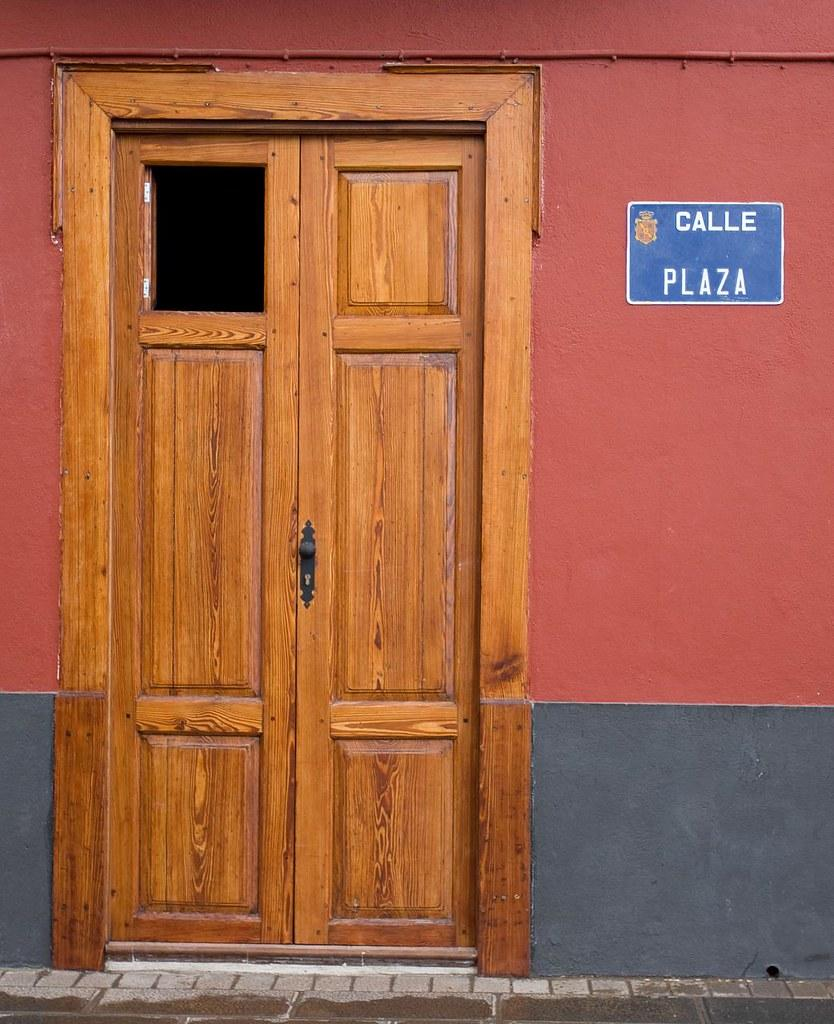door: (105, 115, 487, 959)
